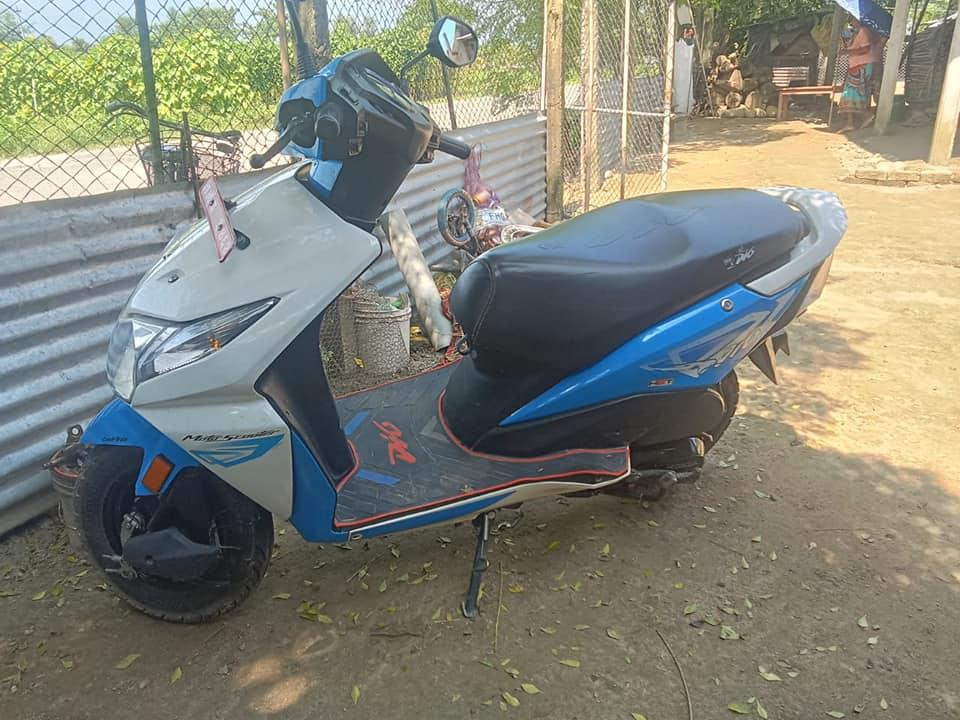scooter: (56, 18, 849, 634)
